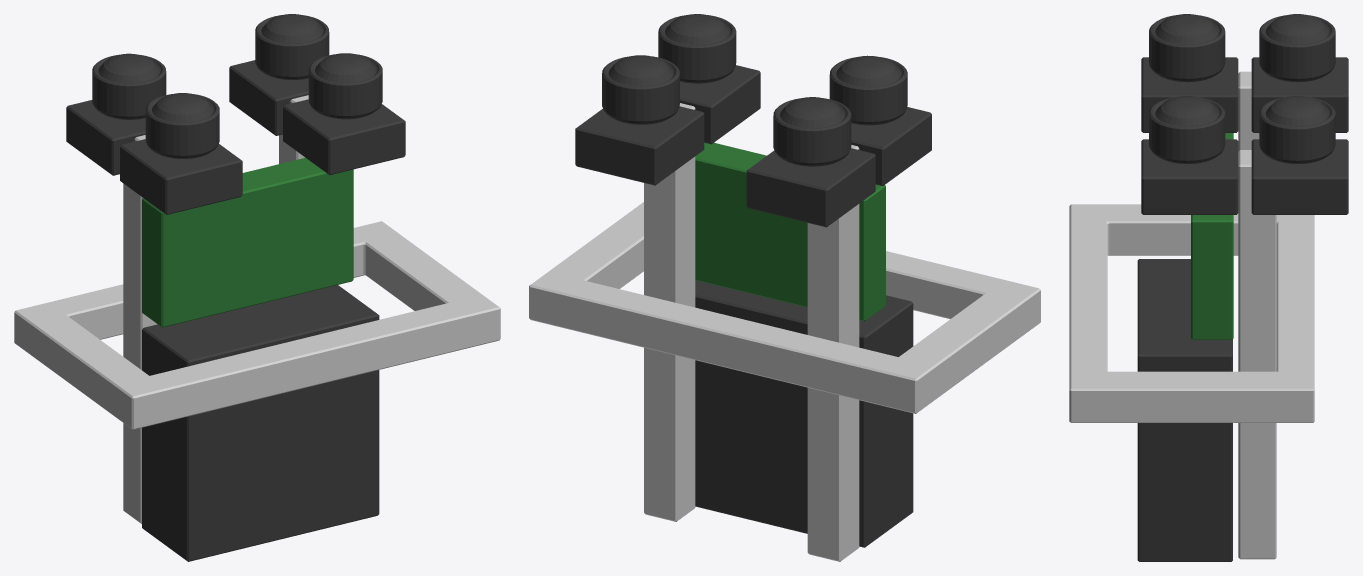
The model's file is StereoTUM.dae.
3 views of the same model, side by side, from view 1: azimuth 30°, elevation 25°; view 2: azimuth 150°, elevation 25°; view 3: azimuth 270°, elevation 25° (orthographic). The views are drawn at different scales.
Parts seen in each view (by area): view 1: StereoTUM; view 2: StereoTUM; view 3: StereoTUM.
Boxes of the visible parts, x1,y1,x2,y2 form: StereoTUM: (14,14,500,561); StereoTUM: (529,14,1040,561); StereoTUM: (1069,14,1348,561).
Bounding box in the file's own units: 23 × 14.61 × 26.29.
